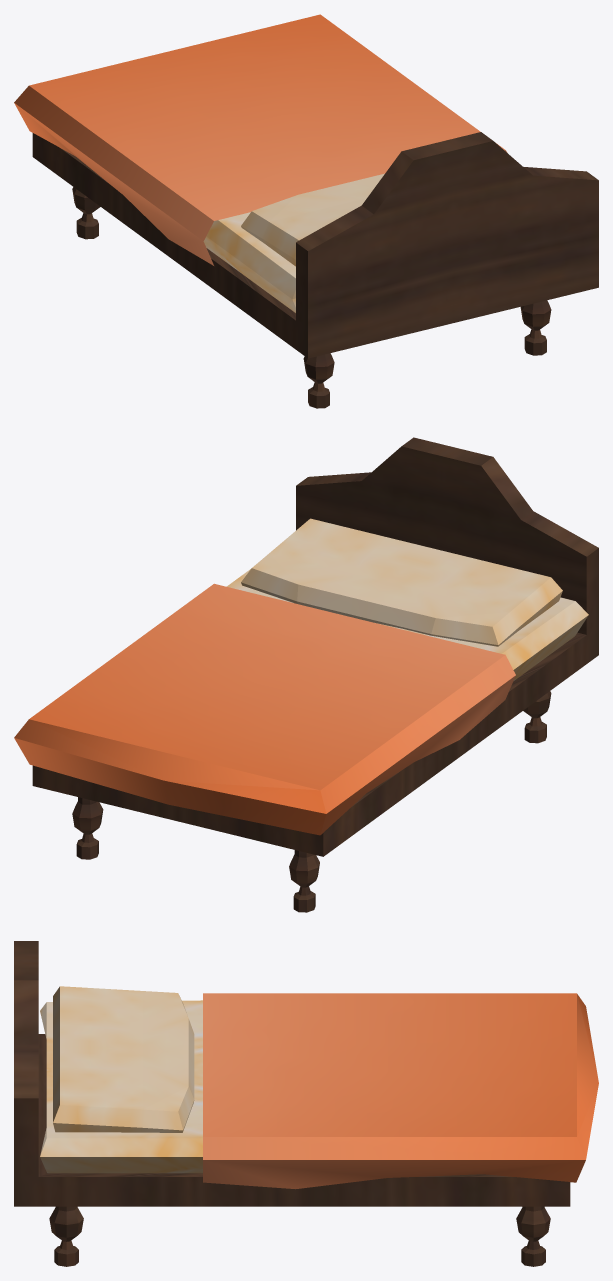
Rendered from DoubleBed.fbx.
The picture shows the model from 3 angles, top to bottom: view 1: azimuth 30°, elevation 25°; view 2: azimuth 150°, elevation 25°; view 3: azimuth 270°, elevation 25°; orthographic projection.
Parts seen in each view (by area): view 1: Cube.038; view 2: Cube.038; view 3: Cube.038.
Boxes of the visible parts, x1,y1,x2,y2 form: Cube.038: (14,14,598,408); Cube.038: (14,437,598,912); Cube.038: (14,941,598,1266).
Size of the model in its own units: 209 by 157 by 335.
Materials: 1 (1 with a texture image).
